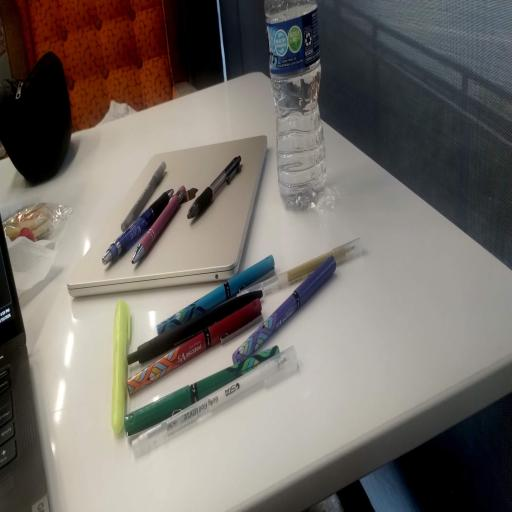pen: (132, 346, 298, 457), (125, 346, 279, 436), (127, 299, 261, 395), (233, 257, 336, 362), (128, 292, 262, 364), (157, 255, 274, 334), (241, 239, 361, 297), (103, 190, 173, 264), (188, 156, 241, 218), (121, 162, 166, 232), (112, 300, 130, 434), (189, 189, 196, 196)
waterbottle: (265, 0, 326, 209)
